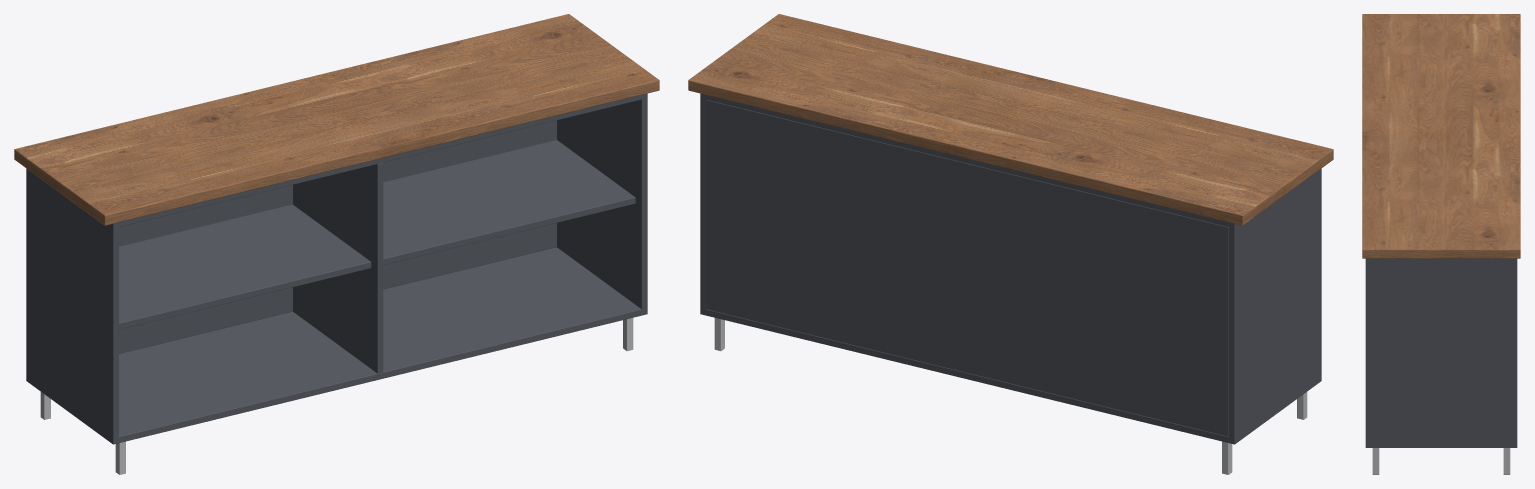
Rendered from credenza.glb.
3 views of the same model, side by side, from view 1: azimuth 30°, elevation 25°; view 2: azimuth 150°, elevation 25°; view 3: azimuth 270°, elevation 25° (orthographic). The views are drawn at different scales.
Visible parts, largest first — view 1: Credenza; view 2: Credenza; view 3: Credenza.
Boxes of the visible parts, <box> form: Credenza: <box>14,14,659,474</box>; Credenza: <box>688,14,1333,474</box>; Credenza: <box>1362,14,1520,474</box>.
Bounding box in the file's own units: 1.94 × 0.9 × 0.552.
3 materials, 1 textured.
